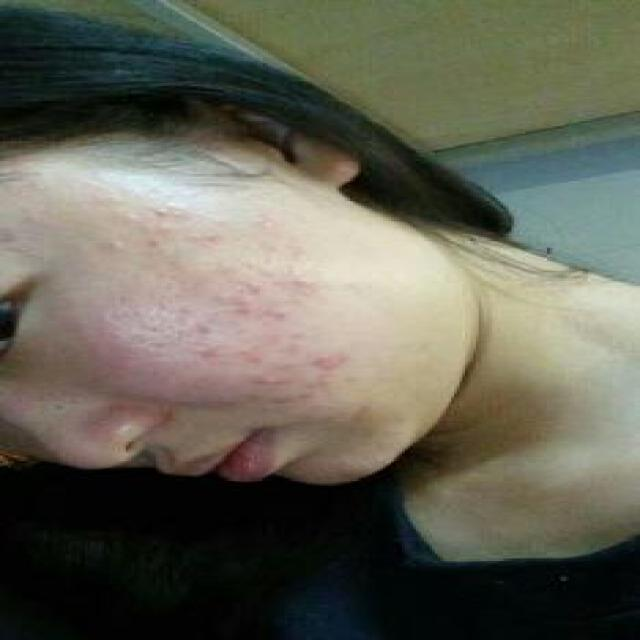papules: (304, 351, 348, 374), (287, 271, 326, 289), (95, 234, 128, 254), (252, 369, 284, 389), (189, 343, 224, 359), (262, 305, 296, 320)
